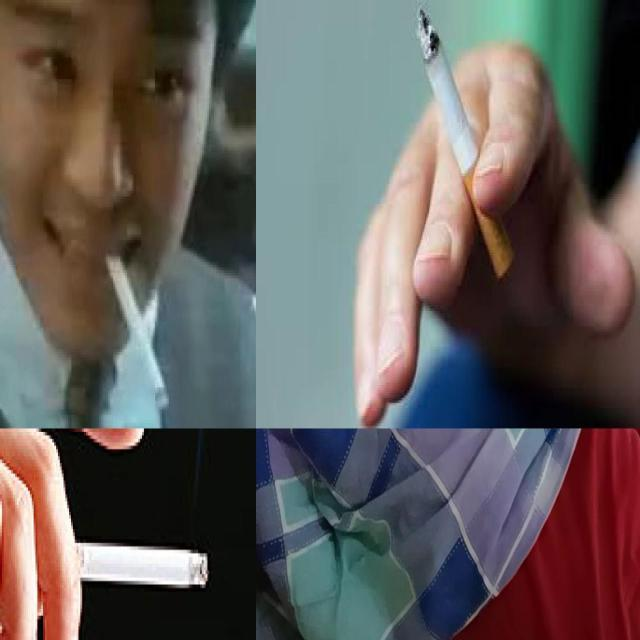smoking: (420, 9, 514, 282), (101, 242, 171, 409), (32, 538, 208, 588)
